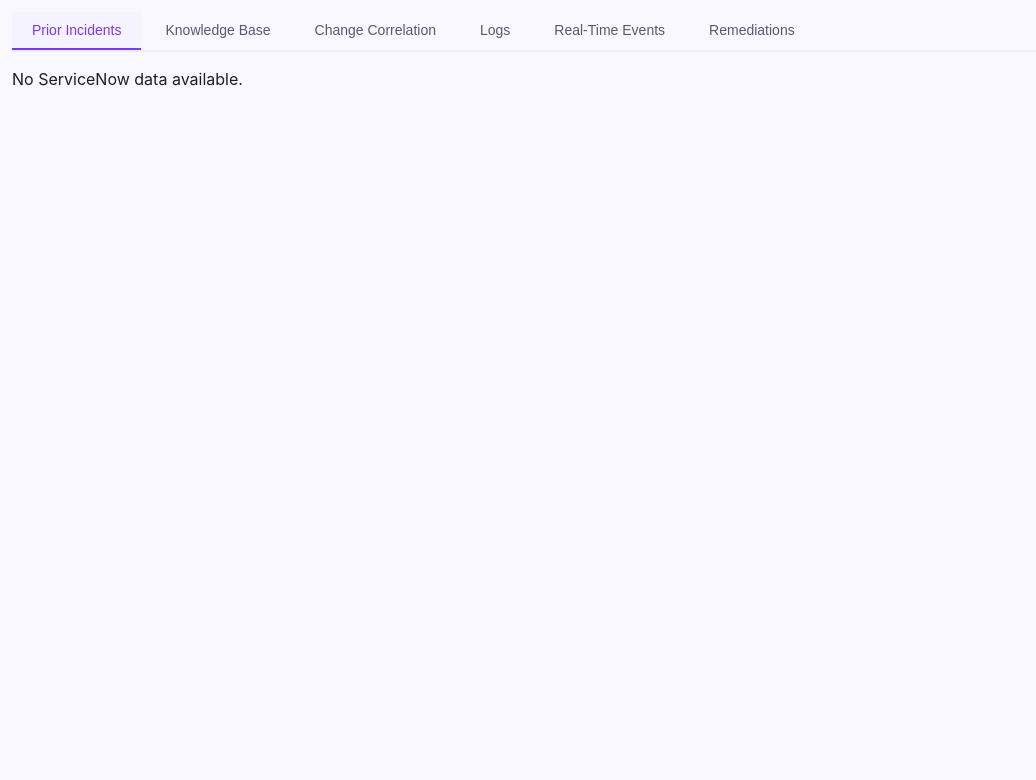
AgentResultsTabs - Run Script Functionality › renders Run Script button with correct text
// Click on Remediations tab
Click the button "Remediations" at (752, 31), box top-left (689, 12), bottom-right (815, 50)
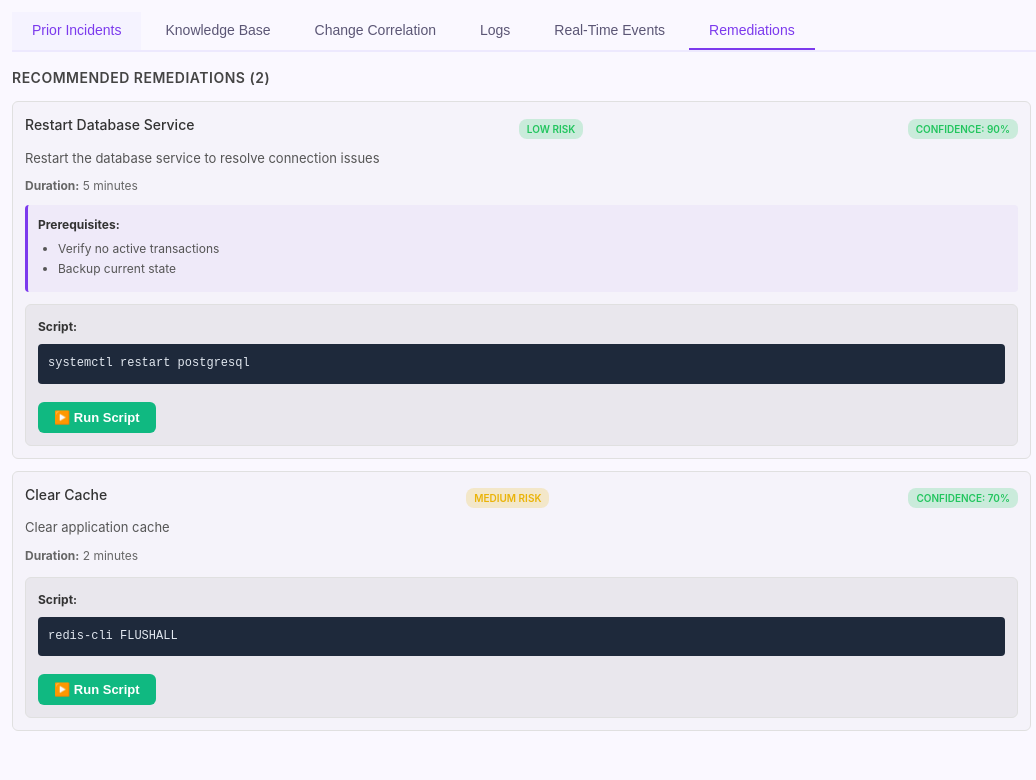
Expected: the number of buttons "▶️ Run Script" is 2, top-left (38, 402), bottom-right (156, 433); top-left (38, 674), bottom-right (156, 705)
